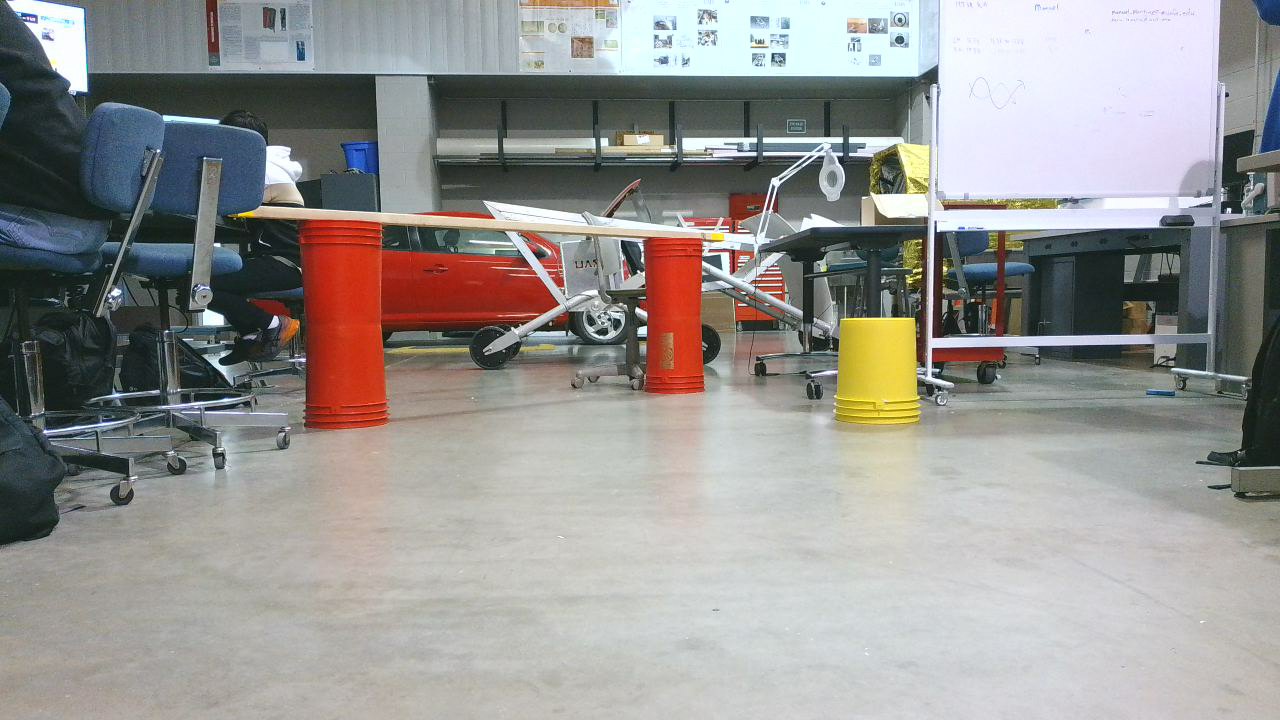red_bucket_arch: (301, 235, 724, 434)
yellow_bucket: (840, 324, 927, 432)
